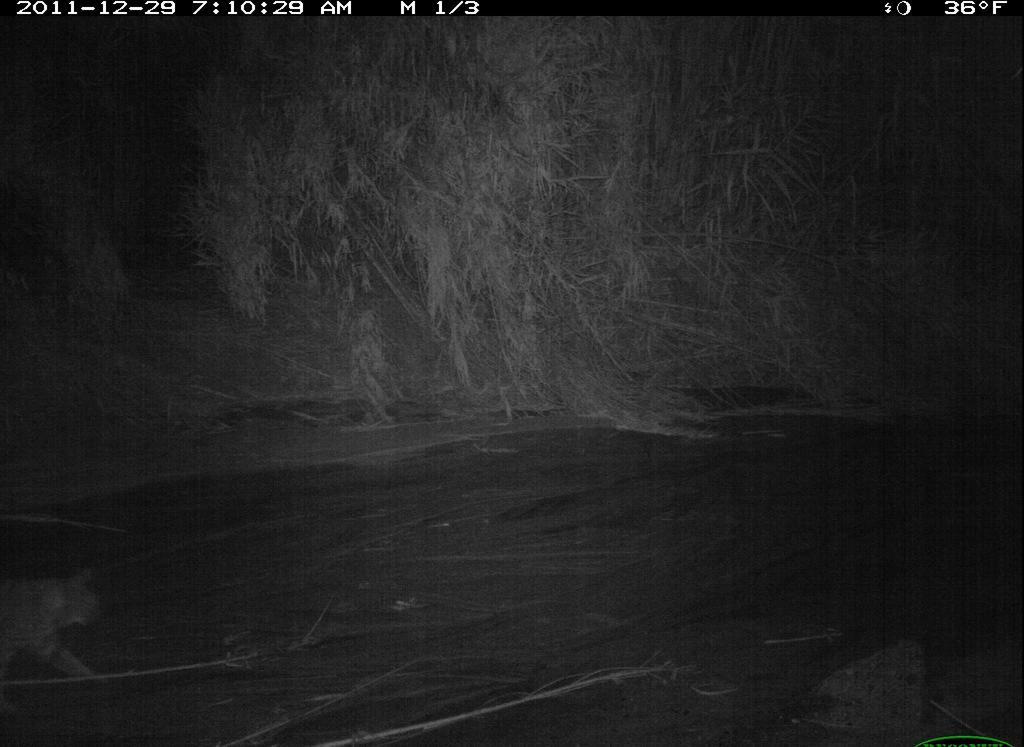bobcat: (4, 552, 114, 708)
